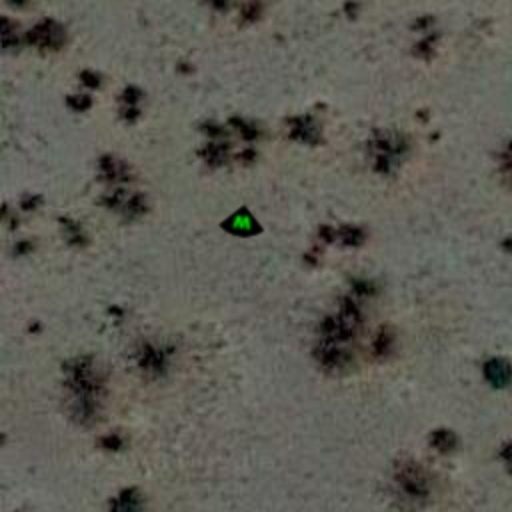quarter_circle: (216, 198, 268, 250)
